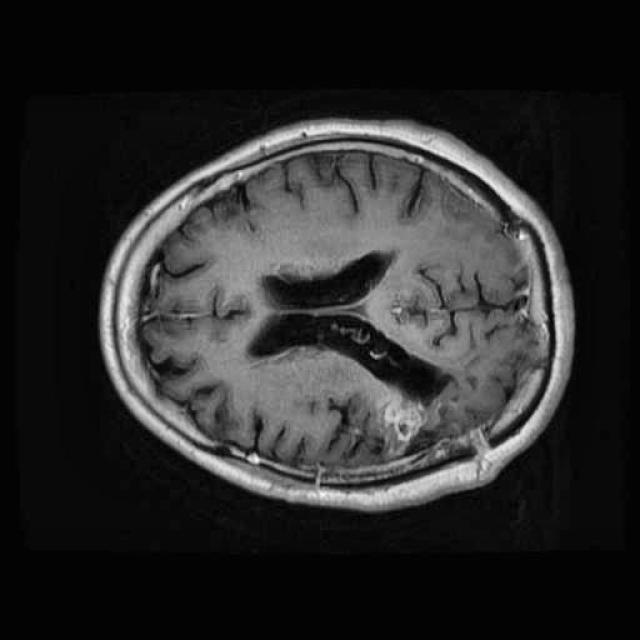Non-Tumor: (369, 370, 434, 468)
